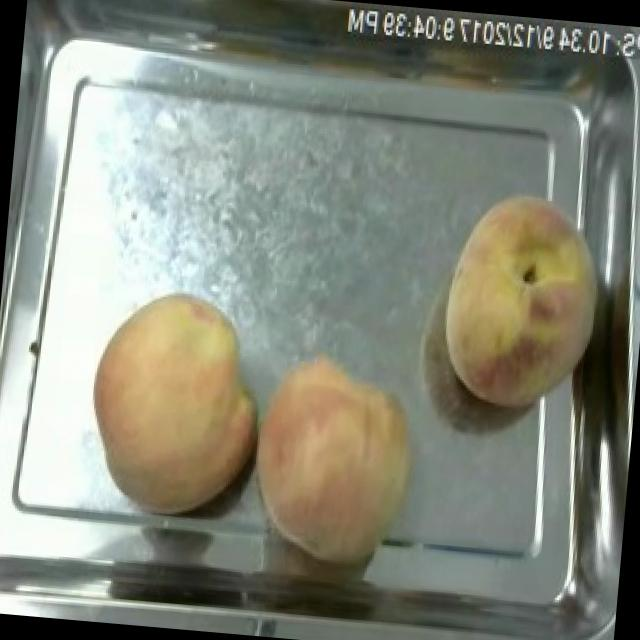Fruit: (75, 280, 272, 526), (234, 341, 432, 577), (429, 180, 618, 423)
